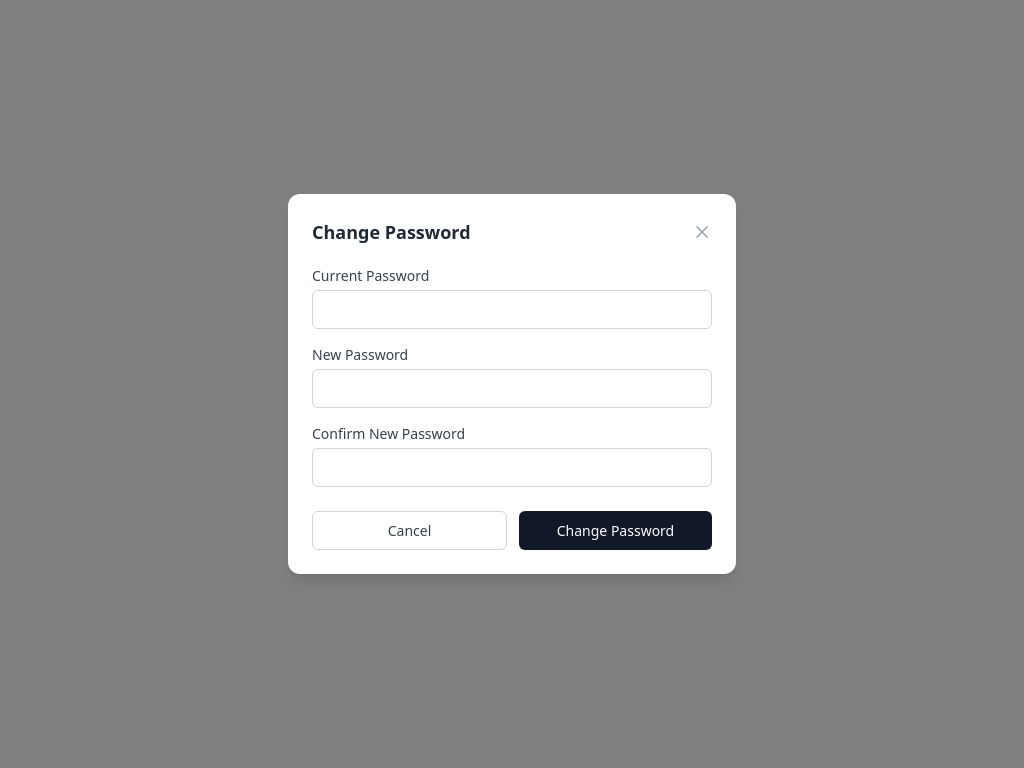
Test: ChangePassword Component › should show error when passwords do not match
This screenshot has width=1024, height=768.
Type "old123" into the password field labelled "Current Password" at (512, 310), box [312, 290, 712, 329]
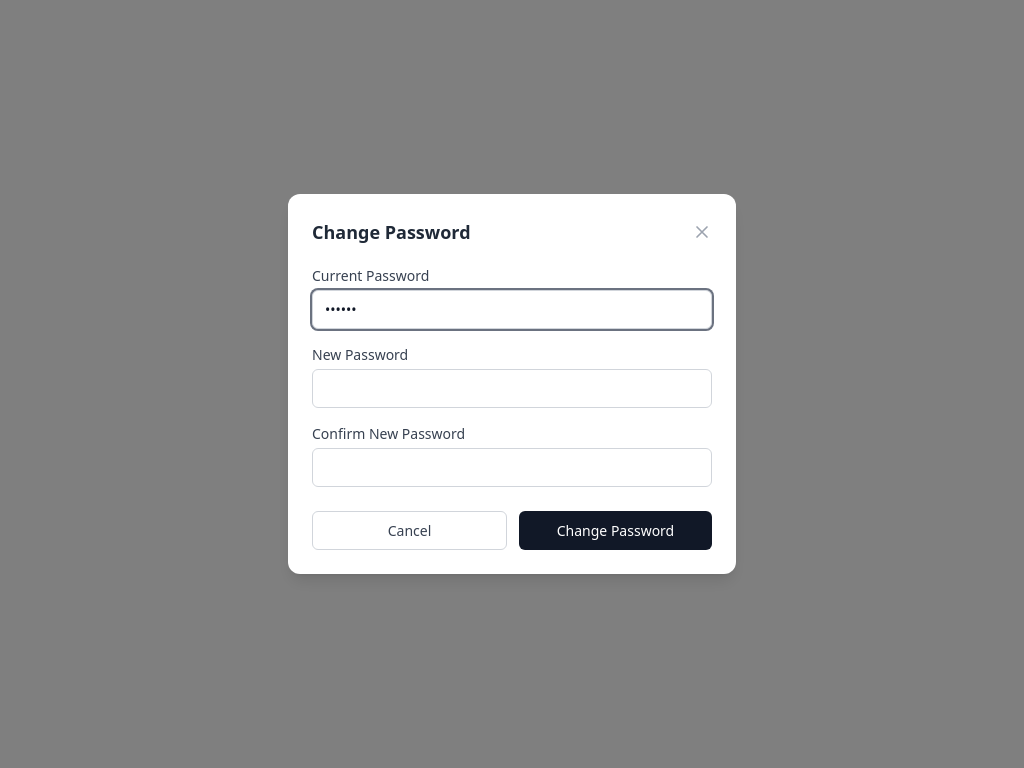
Type "new123" into the password field labelled "New Password" at (512, 388), box [312, 369, 712, 408]
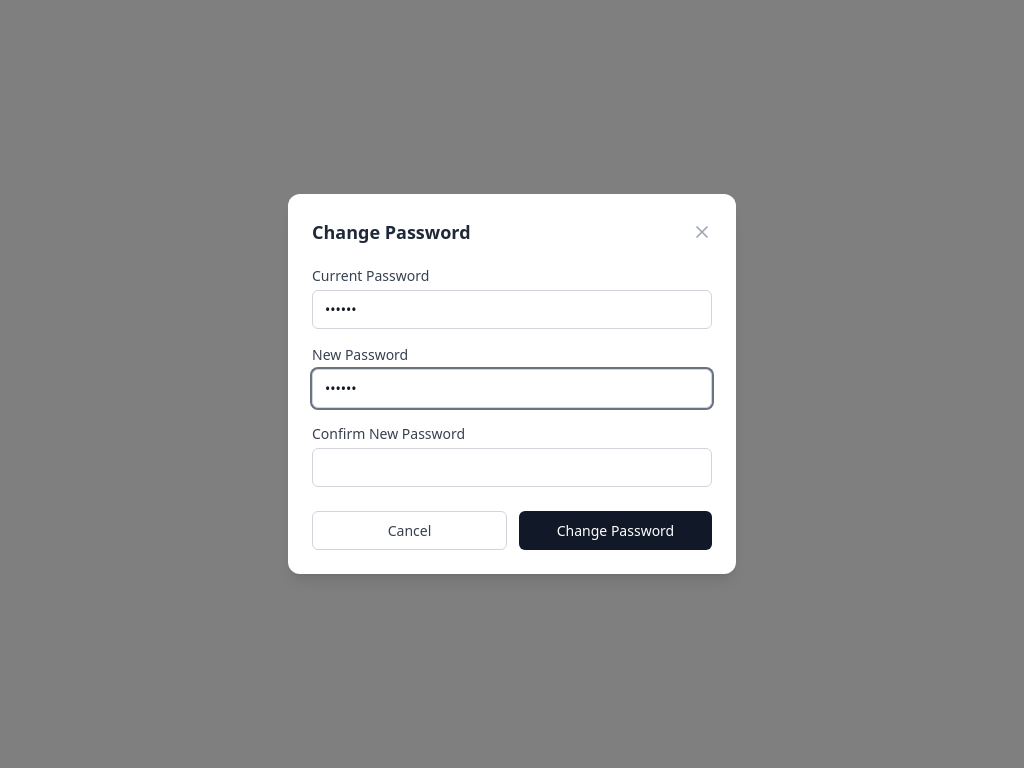
Type "different" into the password field labelled "Confirm New Password" at (512, 468), box [312, 448, 712, 487]
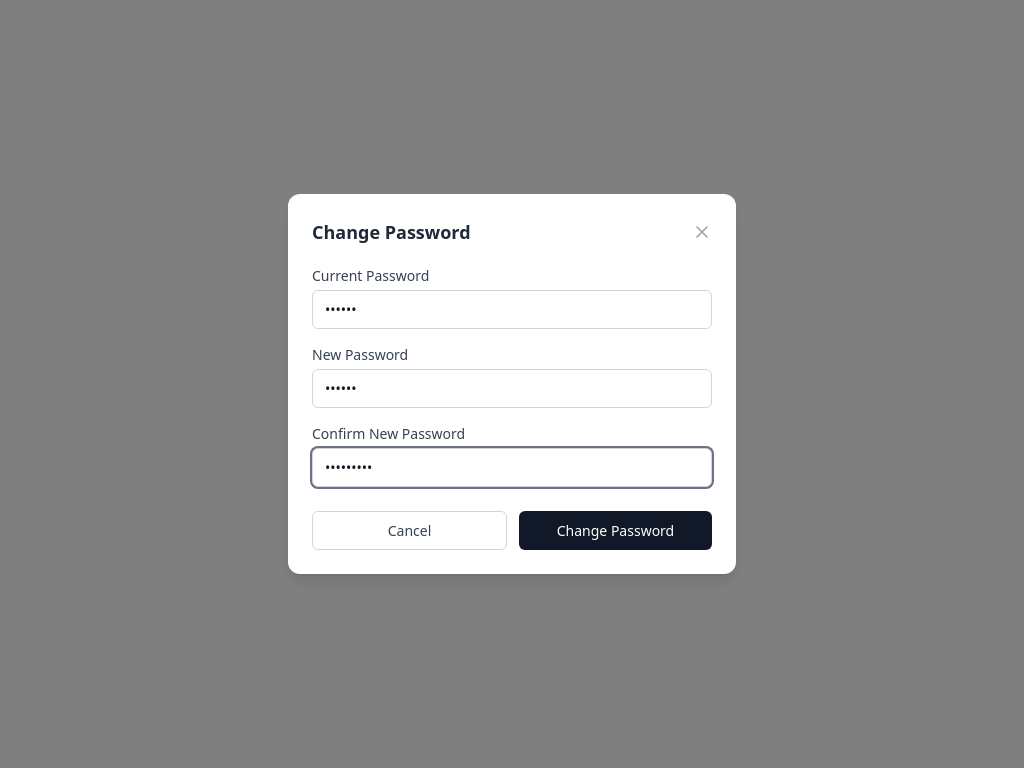
Click the button "Change Password" at (616, 530), box [519, 511, 712, 550]
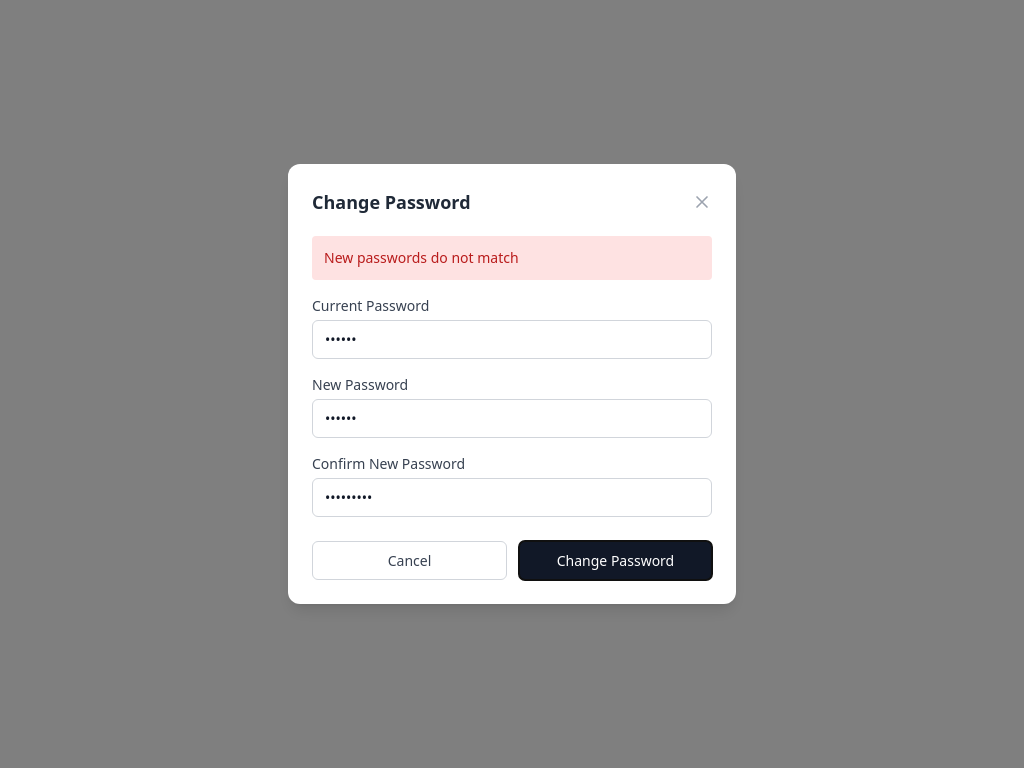
Result: the text "New passwords do not match" is shown at [312, 236, 712, 280]
